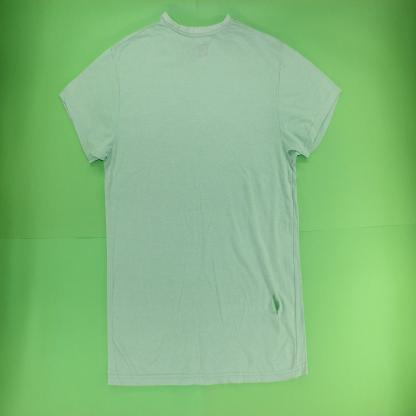hole: (272, 291, 281, 324)
